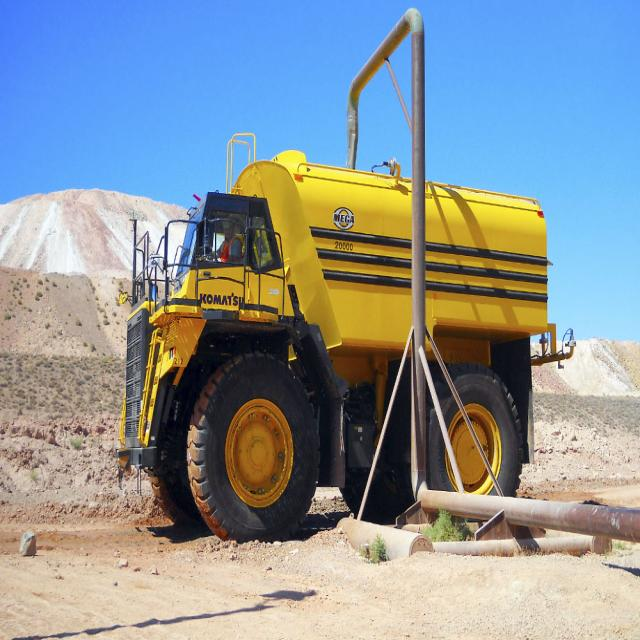dump_truck: (81, 127, 576, 550)
